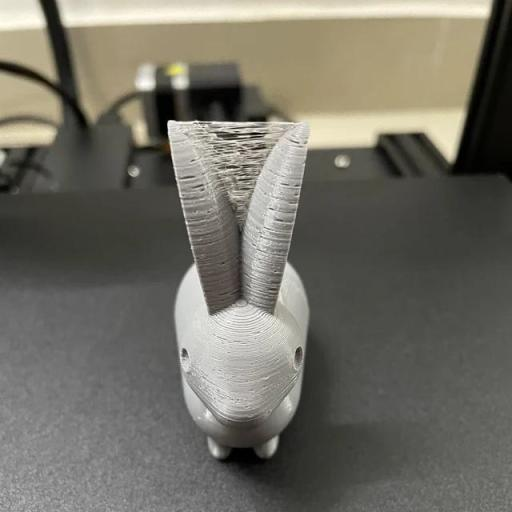stringing: (199, 110, 278, 184)
